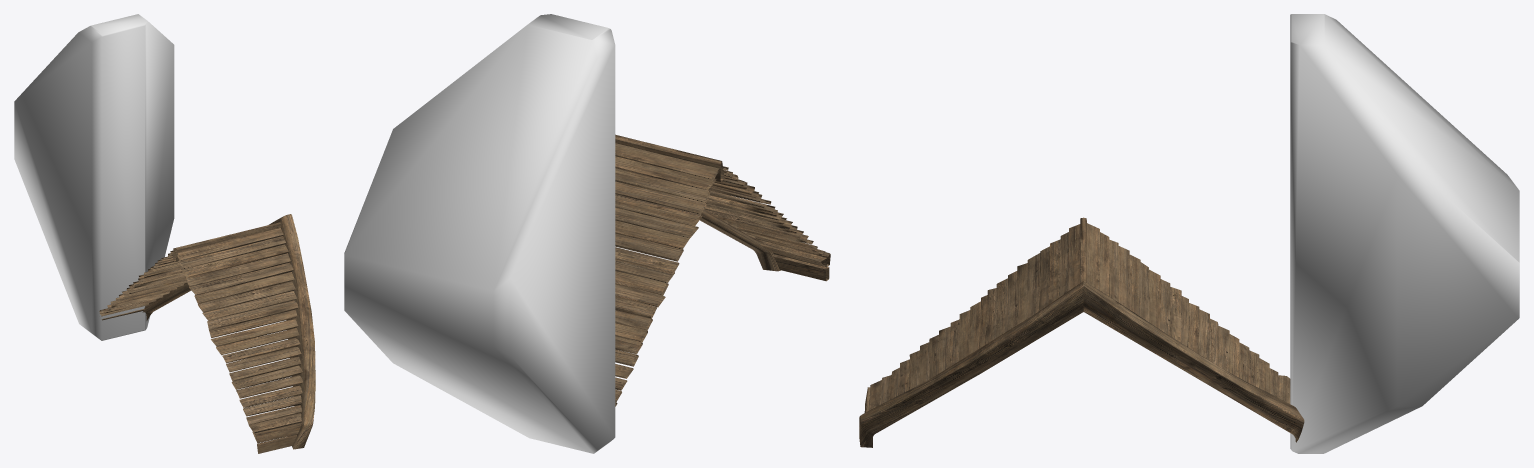
The model's file is SM_Roof_Main_F.fbx.
The picture shows the model from 3 angles, left to right: view 1: azimuth 30°, elevation 25°; view 2: azimuth 150°, elevation 25°; view 3: azimuth 270°, elevation 25°; orthographic projection. The views are drawn at different scales.
Visible parts, largest first — view 1: SM_Roof_Main_F_ConvexHulls, SM_Roof_Main_F; view 2: SM_Roof_Main_F_ConvexHulls, SM_Roof_Main_F; view 3: SM_Roof_Main_F_ConvexHulls, SM_Roof_Main_F.
Part boxes in pixels (box(x1,y1,x2,y2)): SM_Roof_Main_F_ConvexHulls: box(14, 14, 174, 340); SM_Roof_Main_F: box(99, 214, 315, 453); SM_Roof_Main_F_ConvexHulls: box(344, 14, 615, 453); SM_Roof_Main_F: box(615, 134, 830, 406); SM_Roof_Main_F_ConvexHulls: box(1290, 14, 1519, 453); SM_Roof_Main_F: box(859, 217, 1304, 447).
Bounding box in the file's own units: 5.13 × 12.63 × 18.48.
